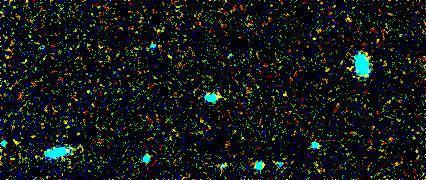star: (271, 79, 301, 109)
